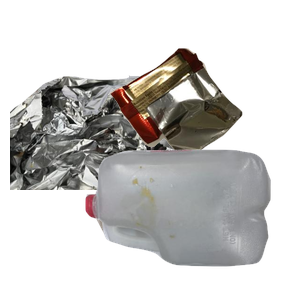glass: (94, 184, 253, 300)
metal: (10, 73, 212, 253)
plastic: (83, 147, 300, 300)
trash: (107, 46, 300, 198)
